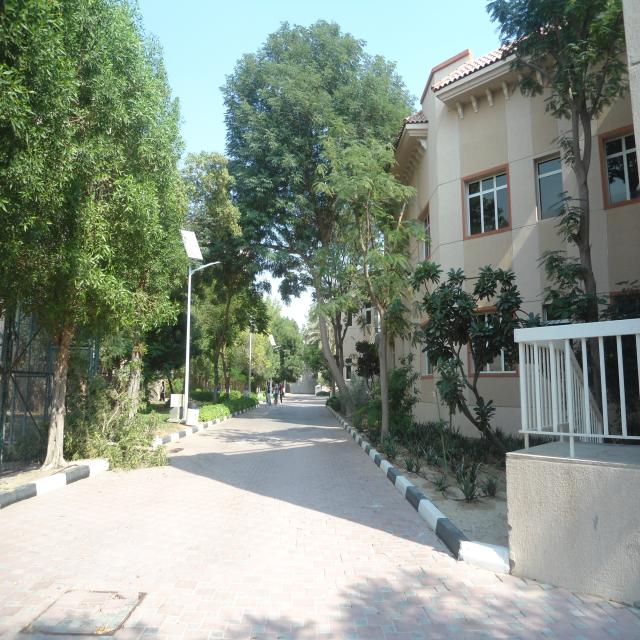lamp: (168, 210, 228, 434)
railing: (496, 308, 640, 458)
tree-chair-bench-table-wall: (0, 0, 257, 478), (228, 10, 418, 456), (475, 1, 637, 316), (410, 245, 523, 464)
